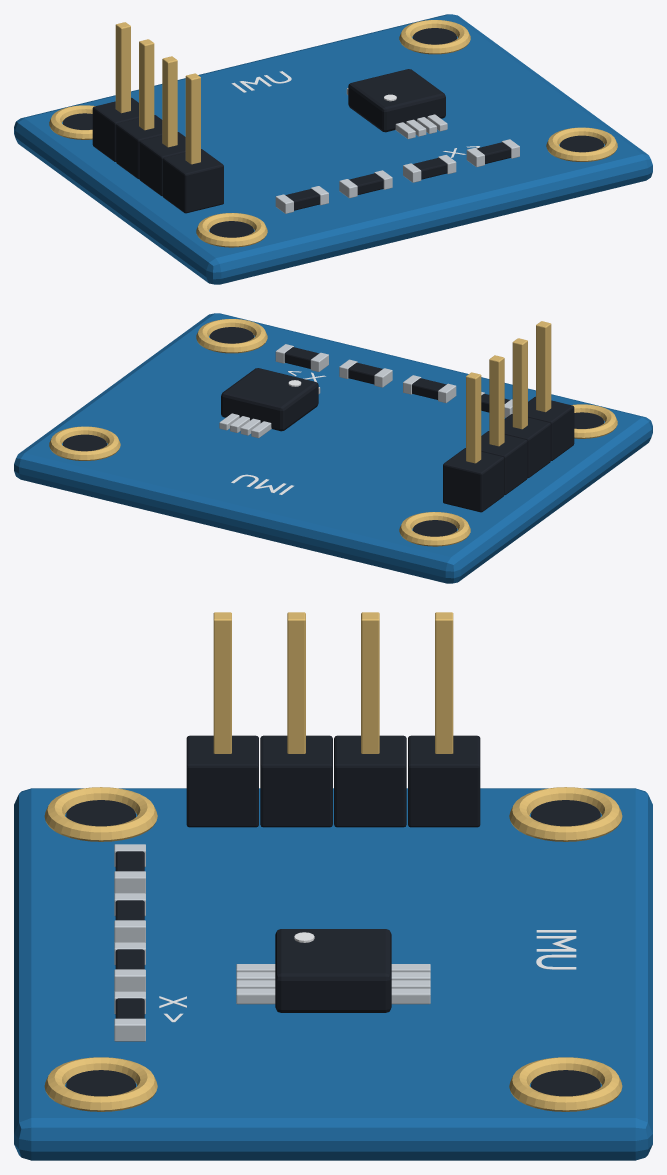
The model's file is imu-sensor.glb.
The picture shows the model from 3 angles, top to bottom: view 1: azimuth 30°, elevation 25°; view 2: azimuth 150°, elevation 25°; view 3: azimuth 270°, elevation 25°; orthographic projection. The views are drawn at different scales.
Parts seen in each view (by area): view 1: Static body • blue, Static body • black, Static body • gold, Static body • silver, Static body • white; view 2: Static body • blue, Static body • black, Static body • gold, Static body • silver, Static body • white; view 3: Static body • blue, Static body • black, Static body • gold, Static body • silver, Static body • white.
Boxes of the visible parts, x1=… form: Static body • blue: x1=14, y1=14, x2=652, y2=284; Static body • black: x1=63, y1=28, x2=603, y2=237; Static body • gold: x1=49, y1=20, x2=617, y2=247; Static body • silver: x1=275, y1=88, x2=519, y2=213; Static body • white: x1=231, y1=71, x2=479, y2=157; Static body • blue: x1=14, y1=313, x2=652, y2=583; Static body • black: x1=63, y1=327, x2=603, y2=536; Static body • gold: x1=49, y1=319, x2=617, y2=546; Static body • silver: x1=219, y1=344, x2=512, y2=438; Static body • white: x1=231, y1=371, x2=325, y2=494; Static body • blue: x1=14, y1=788, x2=652, y2=1160; Static body • black: x1=66, y1=735, x2=600, y2=1096; Static body • gold: x1=44, y1=612, x2=622, y2=1111; Static body • silver: x1=114, y1=844, x2=430, y2=1041; Static body • white: x1=159, y1=930, x2=576, y2=1022.
Size of the model in its own units: 28 by 9.3 by 22.
